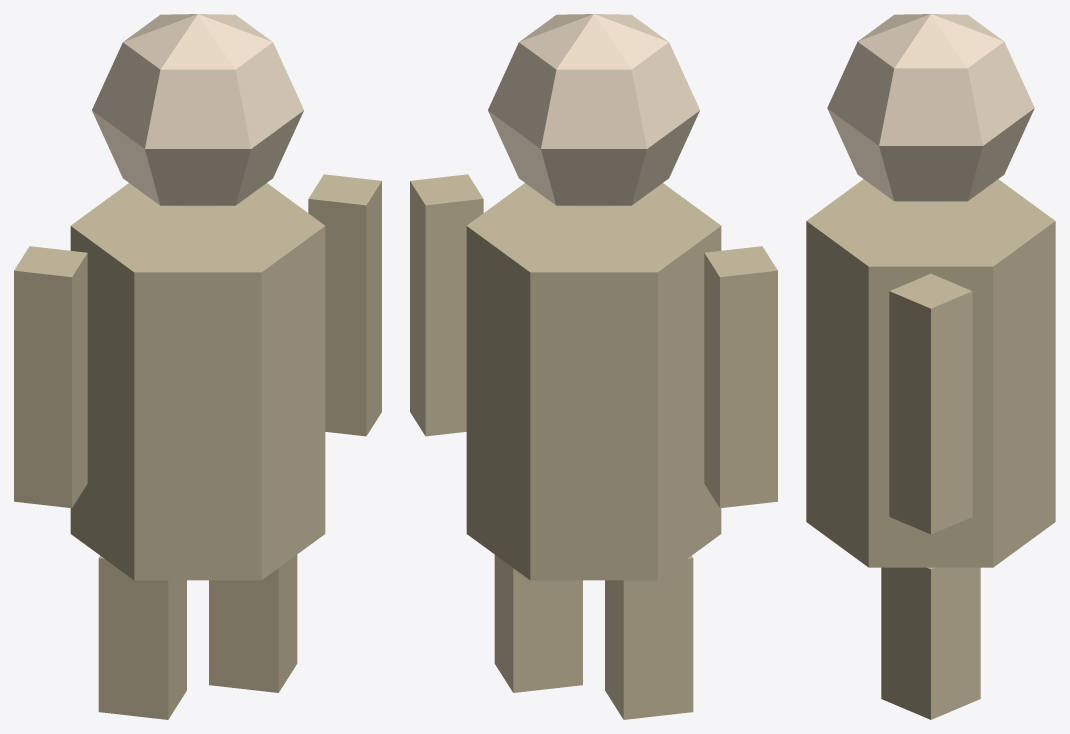
The model's file is stablehand.glb.
3 renders of one model, left to right at view 1: azimuth 30°, elevation 25°; view 2: azimuth 150°, elevation 25°; view 3: azimuth 270°, elevation 25°, orthographic. The views are drawn at different scales.
Visible parts, largest first — view 1: stablehand_torso, stablehand_head, stablehand_arm_l, stablehand_arm_r, stablehand_leg_l, stablehand_leg_r; view 2: stablehand_torso, stablehand_head, stablehand_arm_l, stablehand_arm_r, stablehand_leg_l, stablehand_leg_r; view 3: stablehand_torso, stablehand_head, stablehand_arm_r, stablehand_leg_r.
Part boxes in pixels (x1,y1,x2,y2): stablehand_torso: [70, 183, 325, 580]; stablehand_head: [92, 14, 303, 206]; stablehand_arm_l: [14, 246, 87, 508]; stablehand_arm_r: [308, 174, 381, 436]; stablehand_leg_l: [98, 555, 186, 719]; stablehand_leg_r: [209, 555, 297, 692]; stablehand_torso: [466, 183, 721, 580]; stablehand_head: [488, 14, 699, 206]; stablehand_arm_l: [704, 246, 777, 508]; stablehand_arm_r: [410, 174, 483, 436]; stablehand_leg_l: [605, 555, 693, 719]; stablehand_leg_r: [494, 555, 582, 692]; stablehand_torso: [806, 179, 1055, 567]; stablehand_head: [827, 14, 1034, 201]; stablehand_arm_r: [889, 274, 972, 534]; stablehand_leg_r: [881, 567, 980, 719].
Bounding box in the file's own units: 0.375 × 0.6562 × 0.225.
